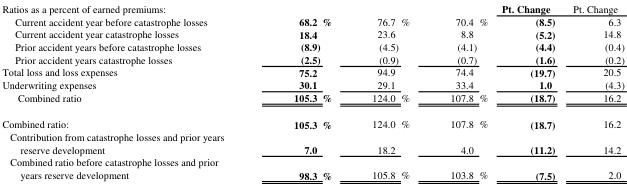table: (1, 1, 623, 182)
table column: (1, 1, 258, 182), (258, 1, 351, 182), (351, 1, 429, 182), (494, 1, 563, 182), (429, 1, 494, 182), (563, 1, 623, 182)
table column header: (1, 1, 623, 27)
table row: (1, 155, 623, 182), (1, 1, 623, 27), (1, 130, 623, 155), (1, 110, 623, 130), (1, 91, 623, 110), (1, 27, 623, 40), (1, 52, 623, 65), (1, 65, 623, 78), (1, 78, 623, 91), (1, 40, 623, 52)
